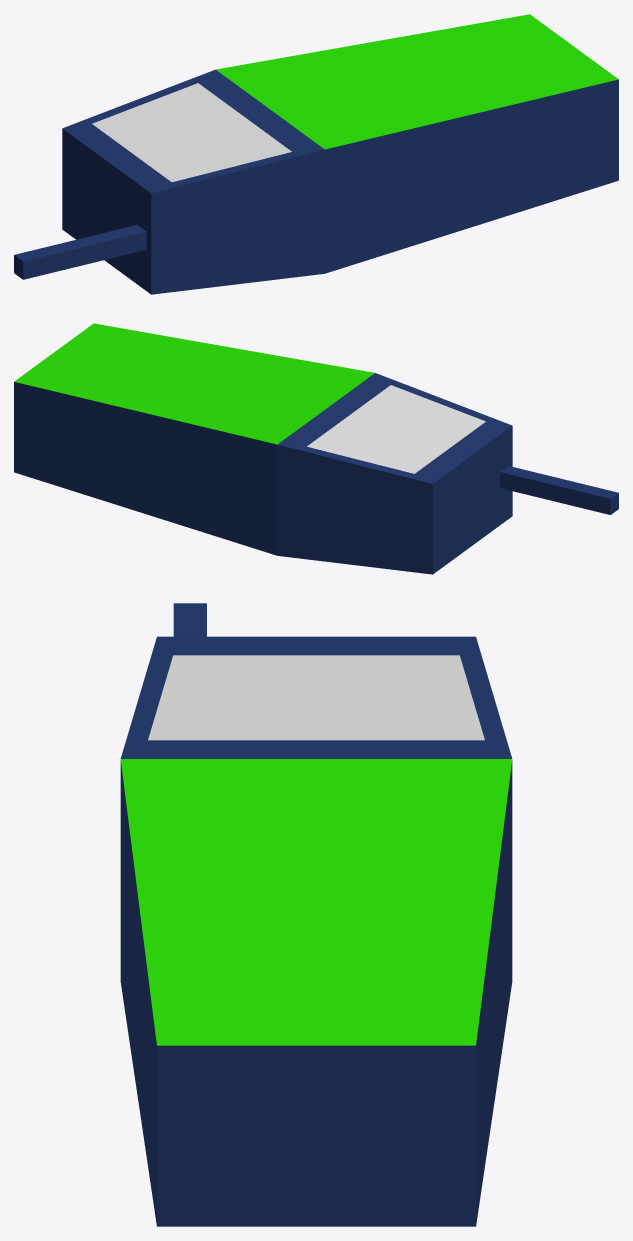
Rendered from Phone.fbx.
3 renders of one model, top to bottom at view 1: azimuth 30°, elevation 25°; view 2: azimuth 150°, elevation 25°; view 3: azimuth 270°, elevation 25°, orthographic. The views are drawn at different scales.
Parts seen in each view (by area): view 1: Cube.022; view 2: Cube.022; view 3: Cube.022.
Boxes of the visible parts, bbox=[...] form: Cube.022: bbox=[14, 14, 618, 294]; Cube.022: bbox=[14, 323, 618, 574]; Cube.022: bbox=[120, 603, 512, 1226].
Size of the model in its own units: 9.44 by 1.9 by 3.02.
